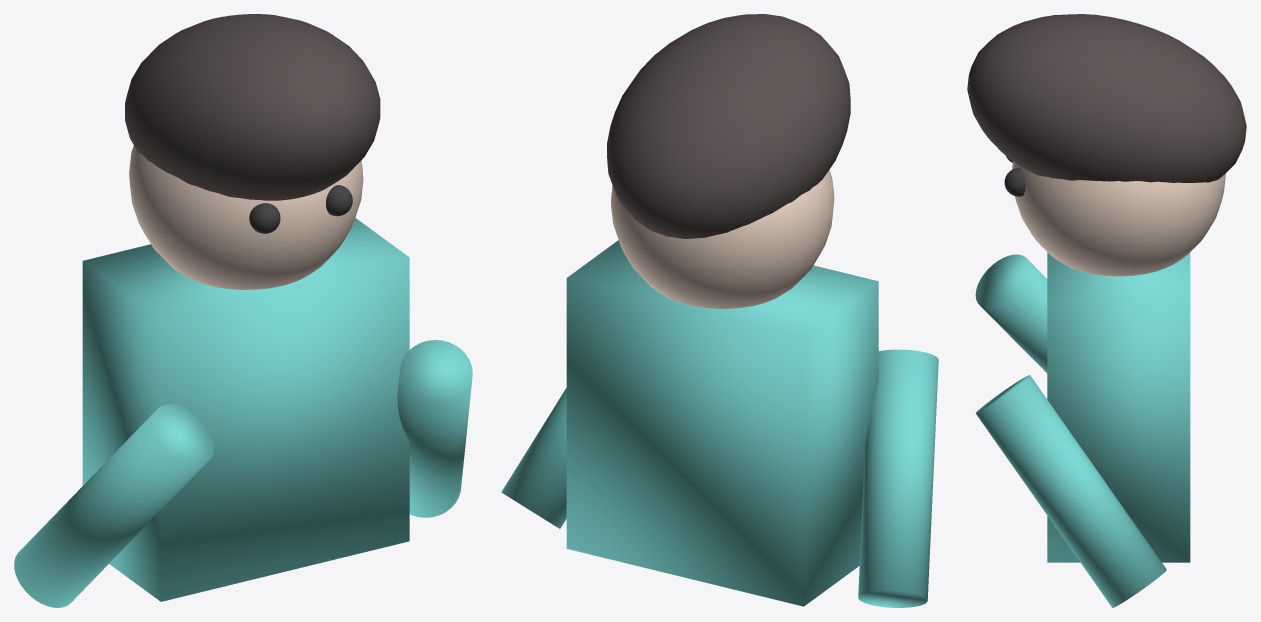
File: customer_retro.glb
3 renders of one model, left to right at view 1: azimuth 30°, elevation 25°; view 2: azimuth 150°, elevation 25°; view 3: azimuth 270°, elevation 25°, orthographic. The views are drawn at different scales.
Visible parts, largest first — view 1: RetroCustomer; view 2: RetroCustomer; view 3: RetroCustomer.
Boxes of the visible parts, bbox=[...] form: RetroCustomer: bbox=[14, 14, 472, 607]; RetroCustomer: bbox=[501, 14, 938, 607]; RetroCustomer: bbox=[967, 14, 1246, 607].
Size of the model in its own units: 1.95 by 2.3 by 1.17.
